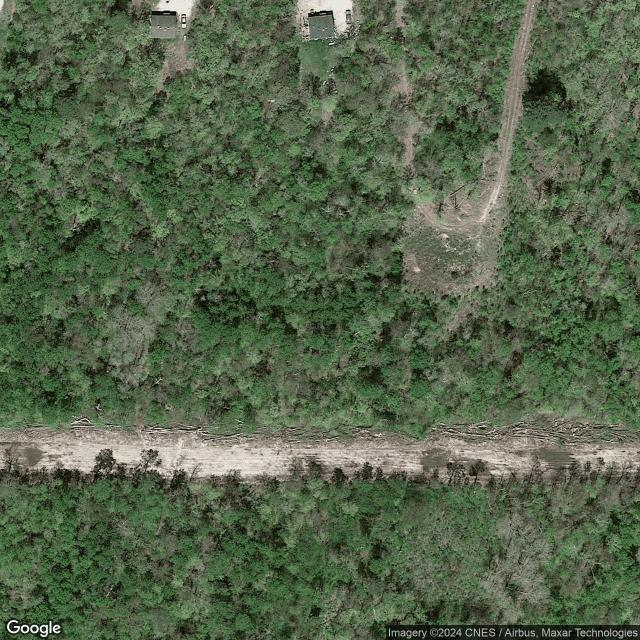Propane: (328, 41, 336, 47), (183, 34, 188, 42)
